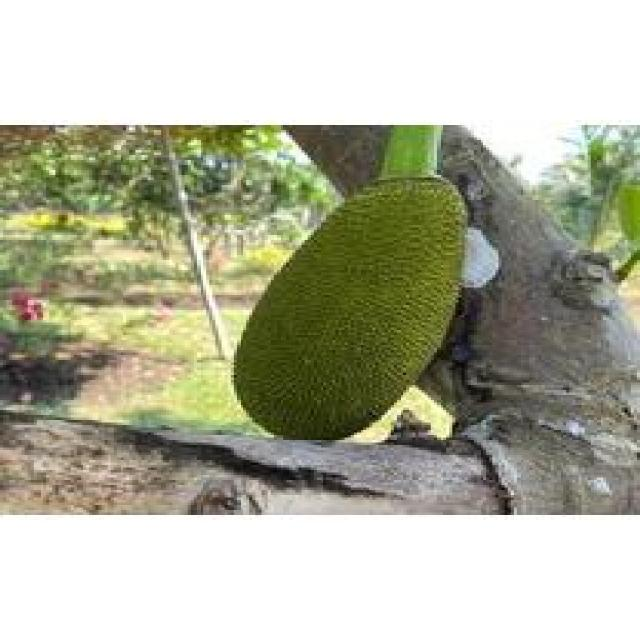Fruit: (215, 162, 480, 448)
